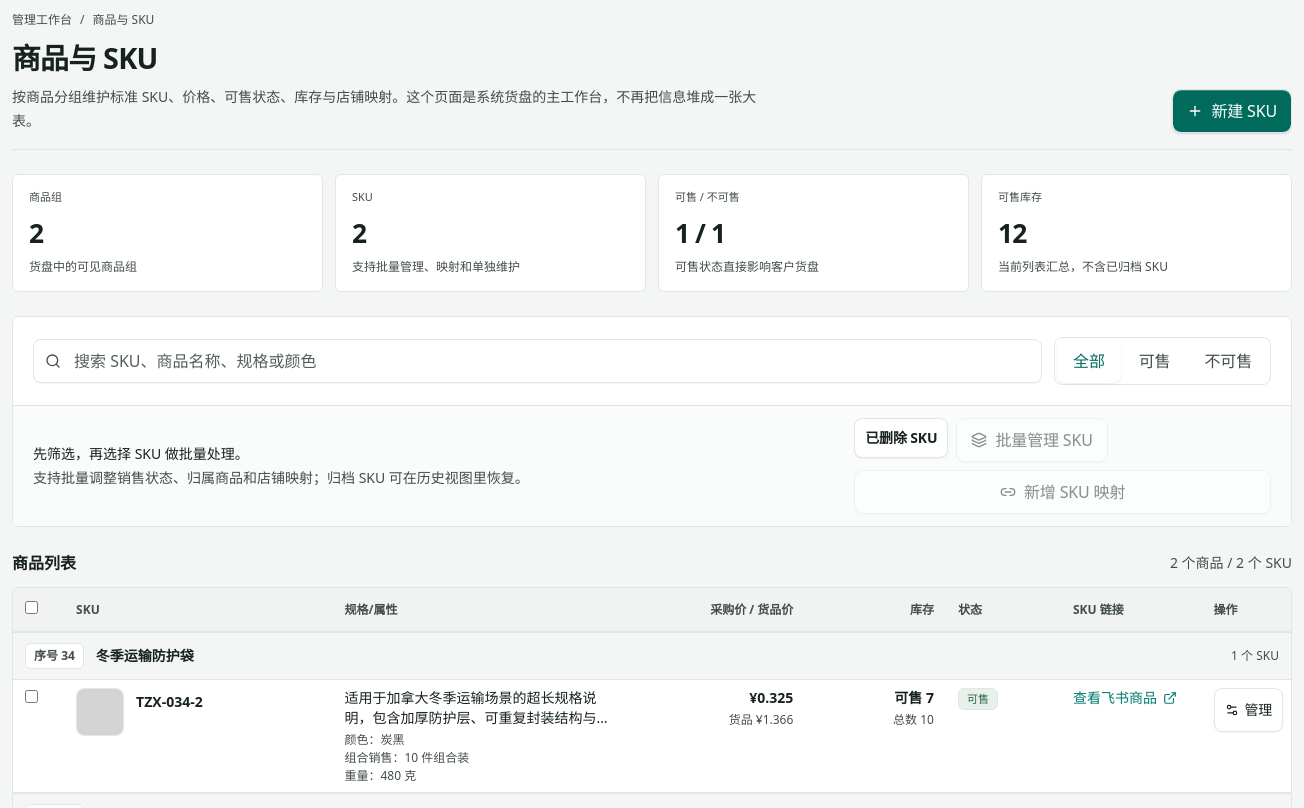
Scenario: catalog workspaces › filters the admin catalog by 来源序号
Type "77" into the search field at (538, 361), box [33,339,1042,383]
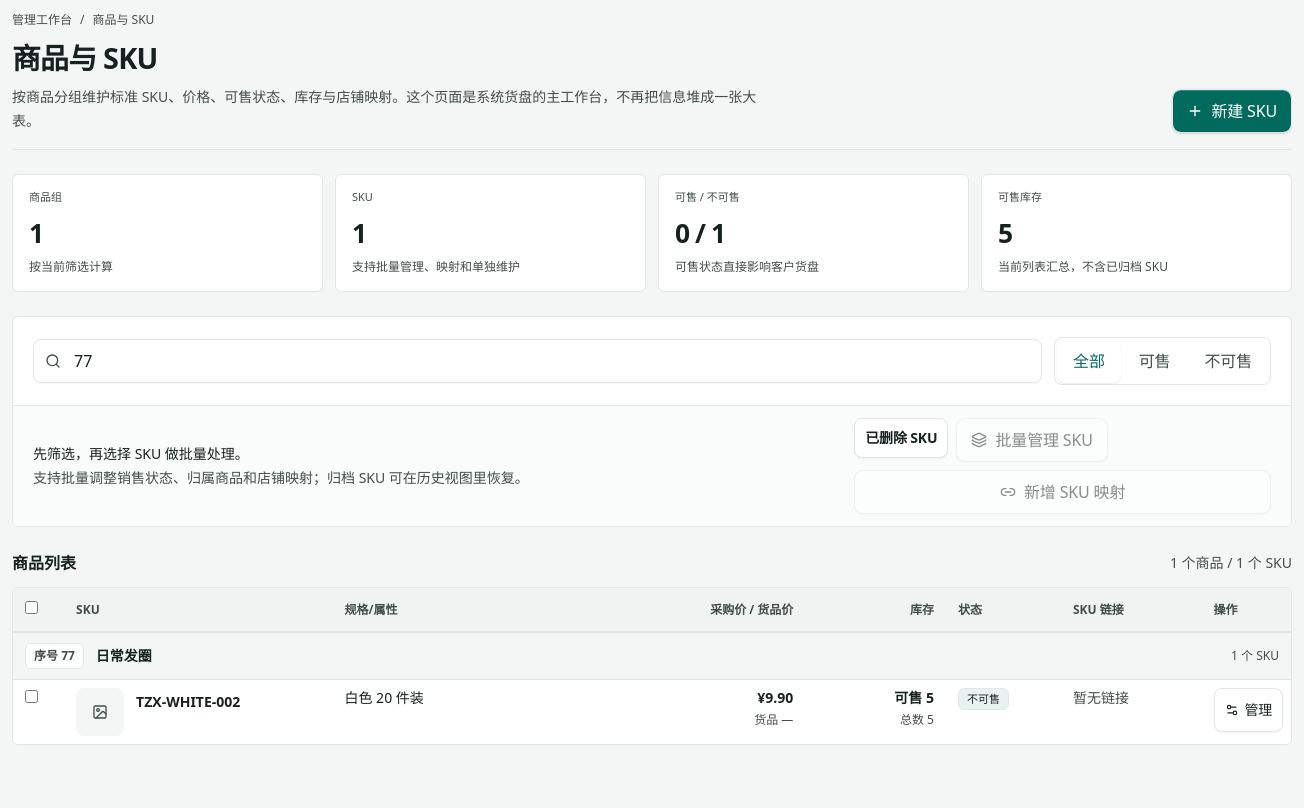
Expected: the text "TZX-WHITE-002" is shown, [136,688,240,712]
Expected: the text "TZX-034-2" is gone
